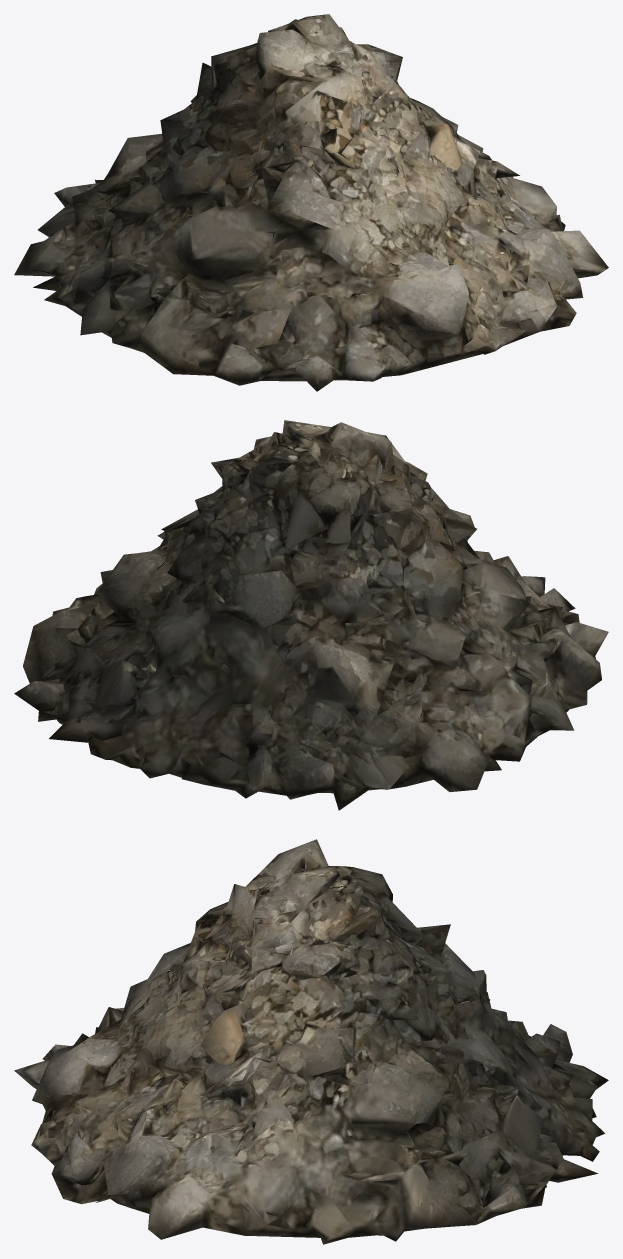
The model's file is qr_gravel2.glb.
3 views of the same model, one above another, from view 1: azimuth 30°, elevation 25°; view 2: azimuth 150°, elevation 25°; view 3: azimuth 270°, elevation 25° (orthographic). The views are drawn at different scales.
Visible parts, largest first — view 1: tripo_node_fe8534e4-3ce4-47a7-9dba-bd3c3c564368; view 2: tripo_node_fe8534e4-3ce4-47a7-9dba-bd3c3c564368; view 3: tripo_node_fe8534e4-3ce4-47a7-9dba-bd3c3c564368.
Part boxes in pixels (x1,y1,x2,y2): tripo_node_fe8534e4-3ce4-47a7-9dba-bd3c3c564368: [14, 14, 608, 391]; tripo_node_fe8534e4-3ce4-47a7-9dba-bd3c3c564368: [14, 420, 608, 810]; tripo_node_fe8534e4-3ce4-47a7-9dba-bd3c3c564368: [14, 839, 608, 1244].
Bounding box in the file's own units: 0.985 × 0.5082 × 1.
1 material, 1 textured.
